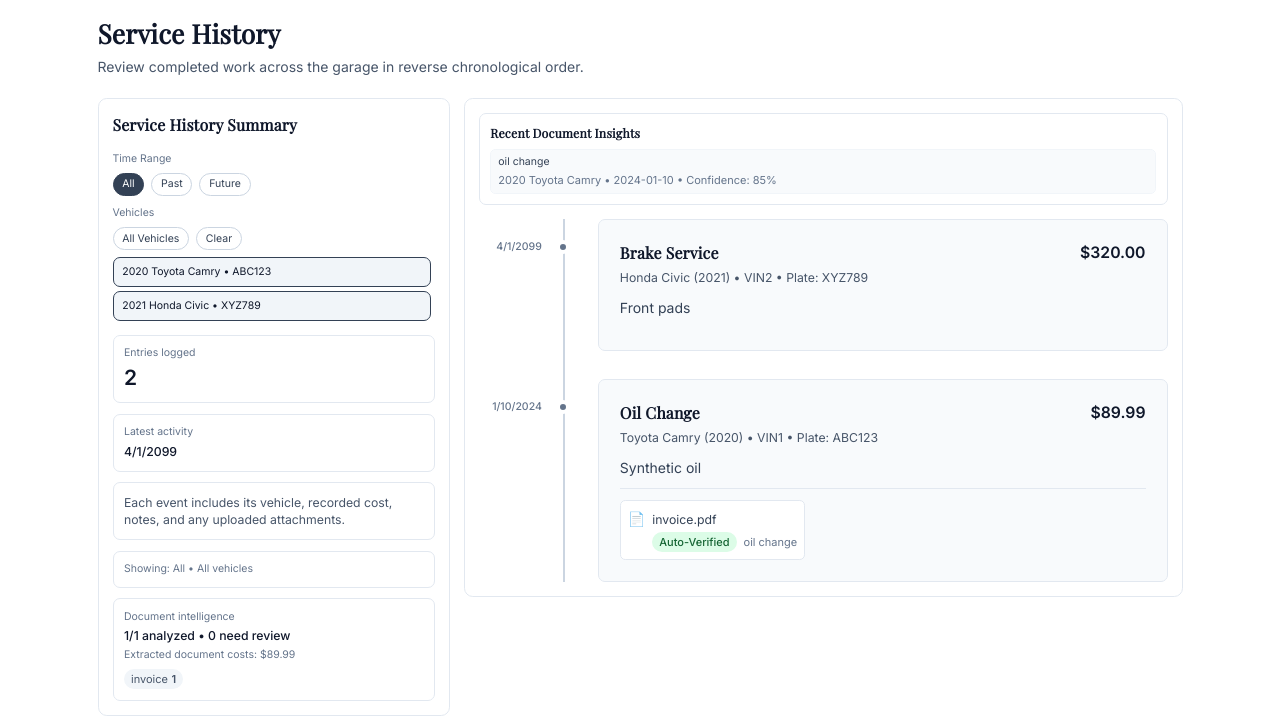
Scenario: TimelineDashboard page › applies time filter toggles
This screenshot has width=1280, height=720.
Click the button "Future" at x=225, y=184, box [199,172,250,196]
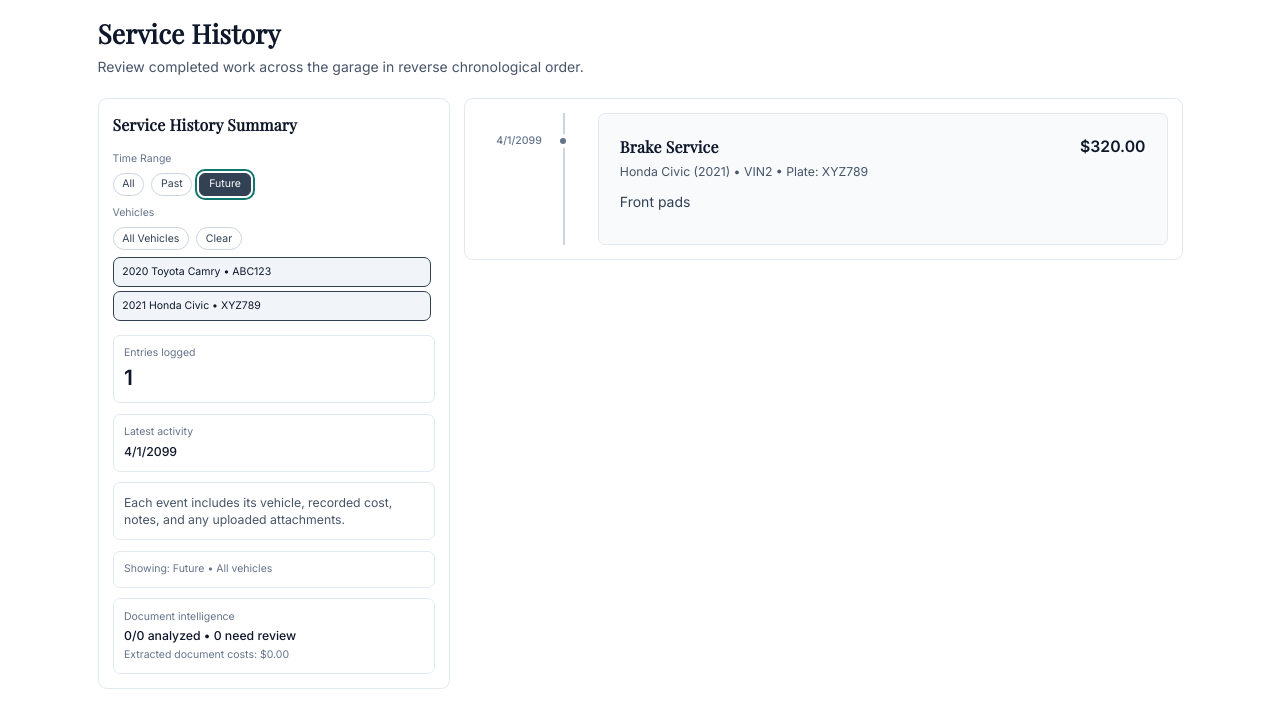
Expected: the heading "Brake Service" is shown, [620,136,718,157]
Expected: the text "oil change" is not shown
Click the button "Past" at x=172, y=184, box [151,172,192,196]
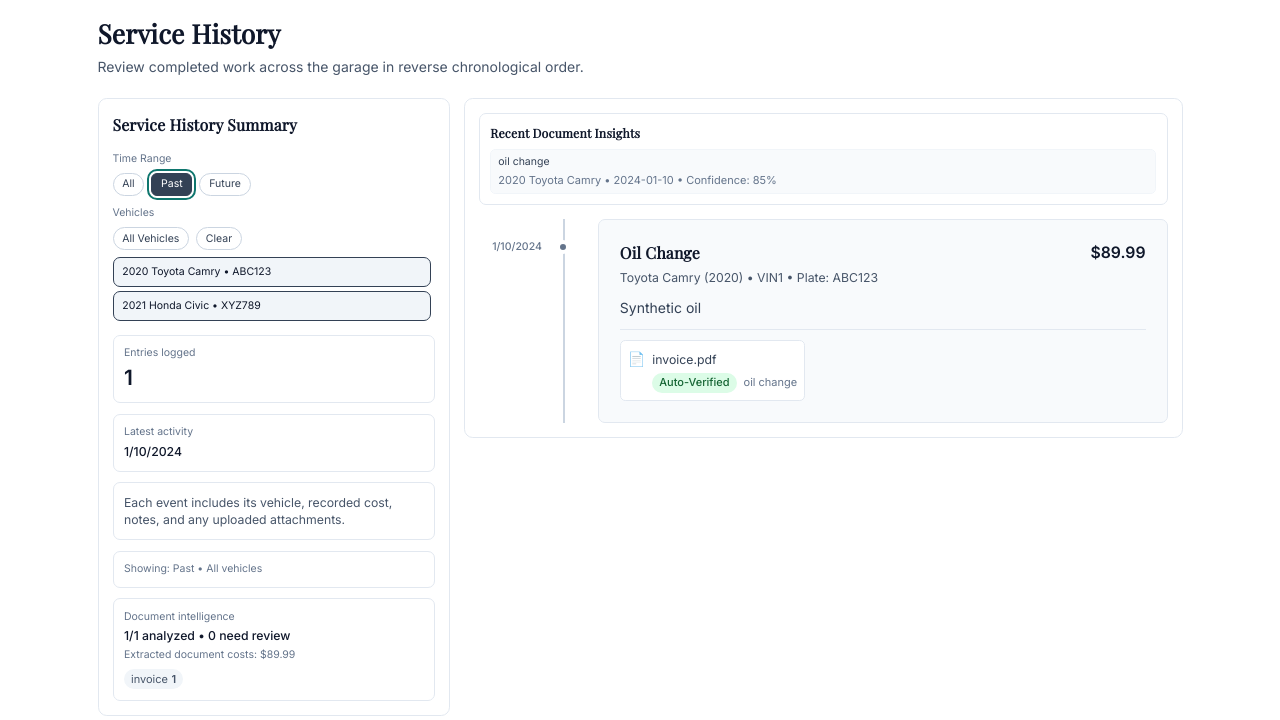
Expected: the text "oil change" below "Recent Document Insights" is shown, [498,155,550,168]
Expected: no headings "Brake Service" are shown
